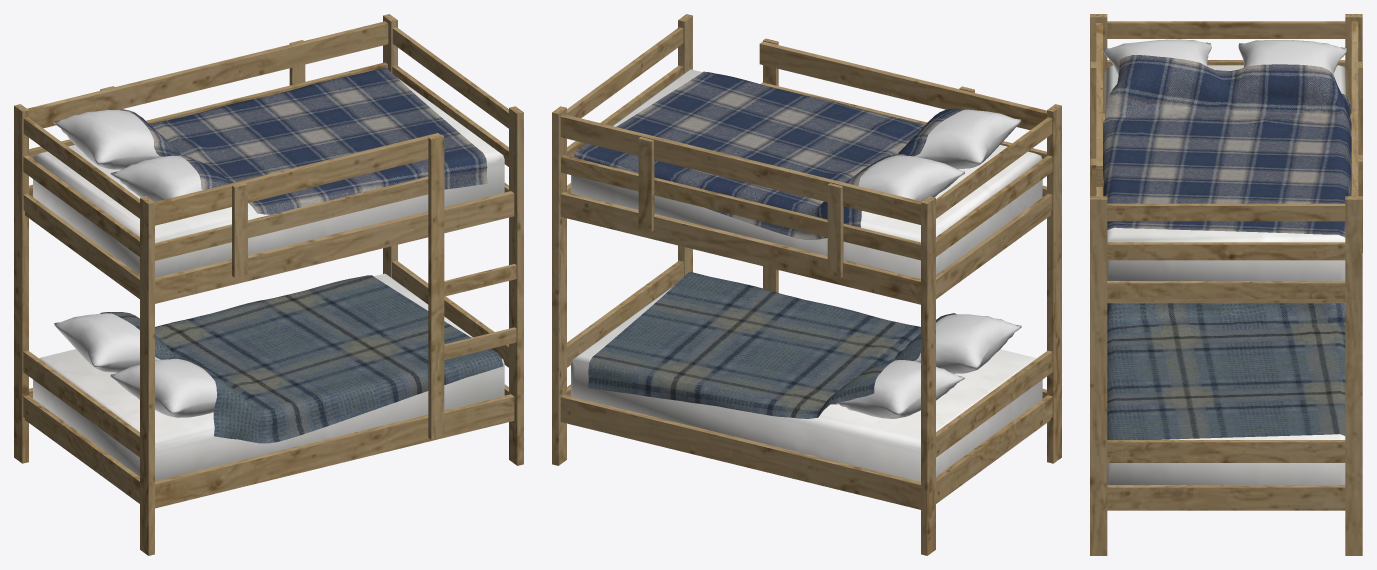
Rendered from bunk_wood.glb.
3 renders of one model, left to right at view 1: azimuth 30°, elevation 25°; view 2: azimuth 150°, elevation 25°; view 3: azimuth 270°, elevation 25°, orthographic.
Visible parts, largest first — view 1: Object_2, Object_3, Object_4, Object_8, Object_5, Object_6, Object_7; view 2: Object_2, Object_3, Object_4, Object_8, Object_5, Object_6, Object_7; view 3: Object_2, Object_4, Object_3, Object_5, Object_8, Object_7.
Part boxes in pixels (bbox=[...]): Object_2: bbox=[14, 14, 523, 555]; Object_3: bbox=[100, 275, 503, 443]; Object_4: bbox=[119, 68, 487, 214]; Object_8: bbox=[33, 273, 504, 480]; Object_5: bbox=[33, 77, 504, 277]; Object_6: bbox=[54, 313, 216, 417]; Object_7: bbox=[53, 110, 202, 201]; Object_2: bbox=[552, 14, 1061, 555]; Object_3: bbox=[587, 272, 956, 418]; Object_4: bbox=[573, 71, 975, 239]; Object_8: bbox=[571, 284, 1042, 481]; Object_5: bbox=[571, 69, 1042, 278]; Object_6: bbox=[836, 314, 1021, 418]; Object_7: bbox=[858, 109, 1021, 201]; Object_2: bbox=[1090, 14, 1362, 555]; Object_4: bbox=[1103, 55, 1351, 237]; Object_3: bbox=[1107, 303, 1345, 439]; Object_5: bbox=[1104, 65, 1345, 280]; Object_8: bbox=[1107, 303, 1345, 484]; Object_7: bbox=[1103, 39, 1346, 74].
Size of the model in its own units: 1.9 by 1.7 by 1.18.
Materials: 7 (7 with a texture image).
